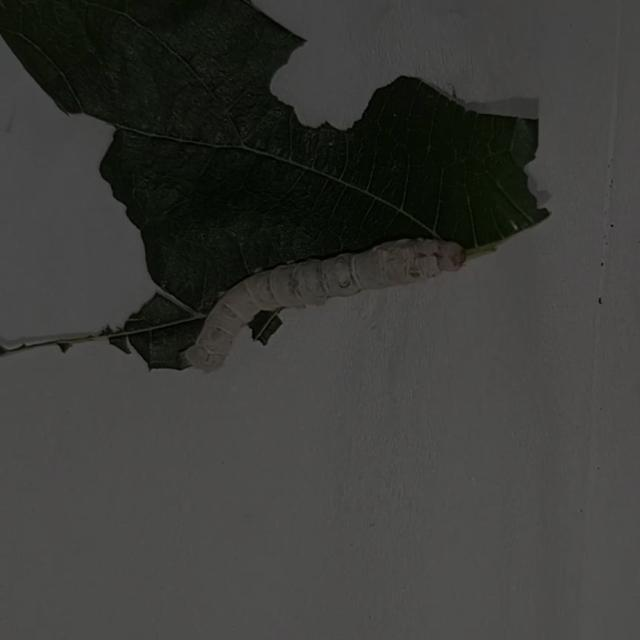Healthy: (179, 227, 472, 384)
